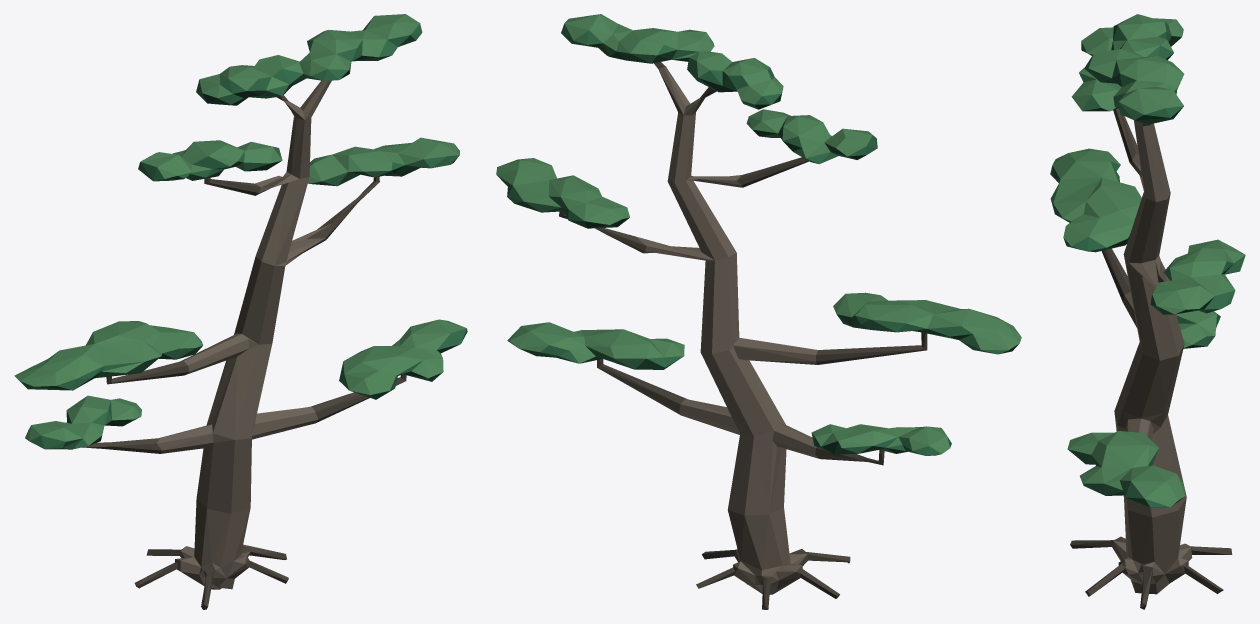
The model's file is ancient-pine-1247-lod2.glb.
3 renders of one model, left to right at view 1: azimuth 30°, elevation 25°; view 2: azimuth 150°, elevation 25°; view 3: azimuth 270°, elevation 25°, orthographic. The views are drawn at different scales.
Visible parts, largest first — view 1: n12.006, n8.006, n11.006, n9.006, n10.006; view 2: n8.006, n12.006, n9.006, n11.006, n10.006; view 3: n12.006, n8.006, n11.006, n9.006, n10.006.
Part boxes in pixels (bbox=[...]): n12.006: bbox=[14, 14, 466, 445]; n8.006: bbox=[157, 80, 331, 589]; n11.006: bbox=[25, 23, 467, 449]; n9.006: bbox=[82, 95, 406, 609]; n10.006: bbox=[15, 35, 459, 449]; n8.006: bbox=[635, 66, 819, 594]; n12.006: bbox=[496, 14, 1021, 453]; n9.006: bbox=[559, 62, 927, 609]; n11.006: bbox=[507, 23, 1007, 455]; n10.006: bbox=[497, 33, 1019, 455]; n12.006: bbox=[1050, 14, 1245, 507]; n8.006: bbox=[1112, 120, 1191, 594]; n11.006: bbox=[1050, 22, 1245, 507]; n9.006: bbox=[1070, 108, 1232, 609]; n10.006: bbox=[1050, 36, 1238, 507].
Bounding box in the file's own units: 5.15 × 5.43 × 1.62.
